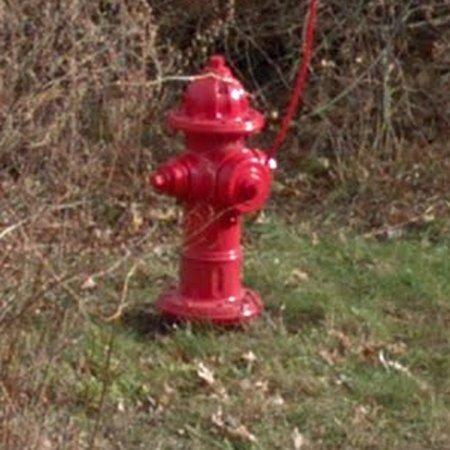a fire hydrant: (151, 55, 272, 324)
